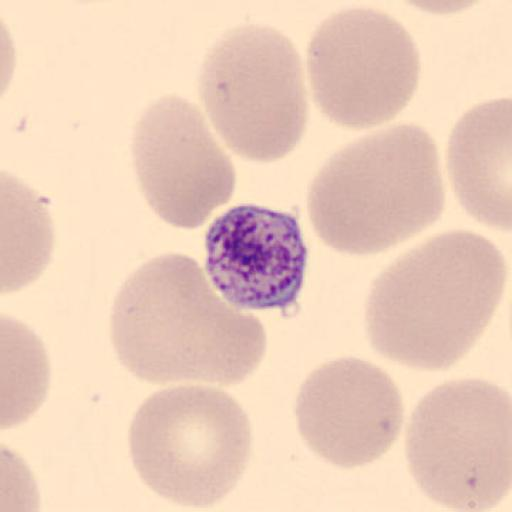Platelet: (202, 200, 311, 316)
RBC: (107, 251, 268, 388), (362, 228, 506, 372), (305, 123, 446, 258), (194, 22, 308, 166), (128, 382, 253, 511), (127, 92, 237, 232), (303, 3, 422, 132), (402, 375, 512, 512), (292, 354, 406, 470), (445, 94, 512, 230), (1, 170, 57, 294), (2, 312, 52, 431), (1, 443, 42, 512), (379, 0, 497, 17), (0, 15, 18, 98)
